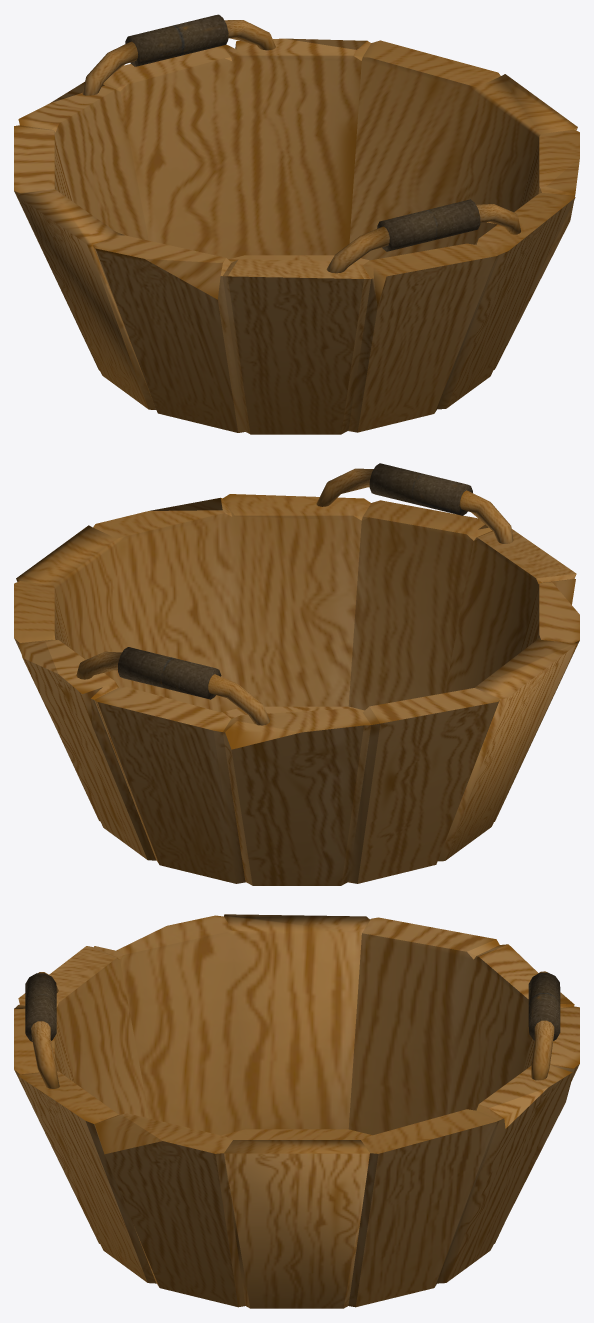
Rendered from basin.fbx.
3 views of the same model, one above another, from view 1: azimuth 30°, elevation 25°; view 2: azimuth 150°, elevation 25°; view 3: azimuth 270°, elevation 25° (orthographic).
Parts seen in each view (by area): view 1: basin; view 2: basin; view 3: basin.
Boxes of the visible parts, x1,y1,x2,y2 form: basin: (14, 14, 579, 434); basin: (14, 463, 579, 885); basin: (14, 914, 579, 1308).
Size of the model in its own units: 362 by 165 by 363.
Materials: 1 (1 with a texture image).
